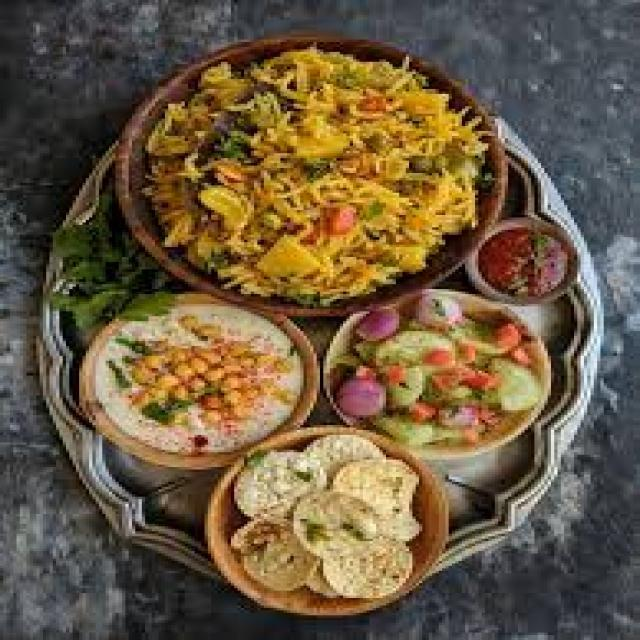rice: (125, 52, 476, 297)
roti: (224, 445, 425, 591)
sweet: (465, 216, 582, 307), (329, 368, 389, 420)
